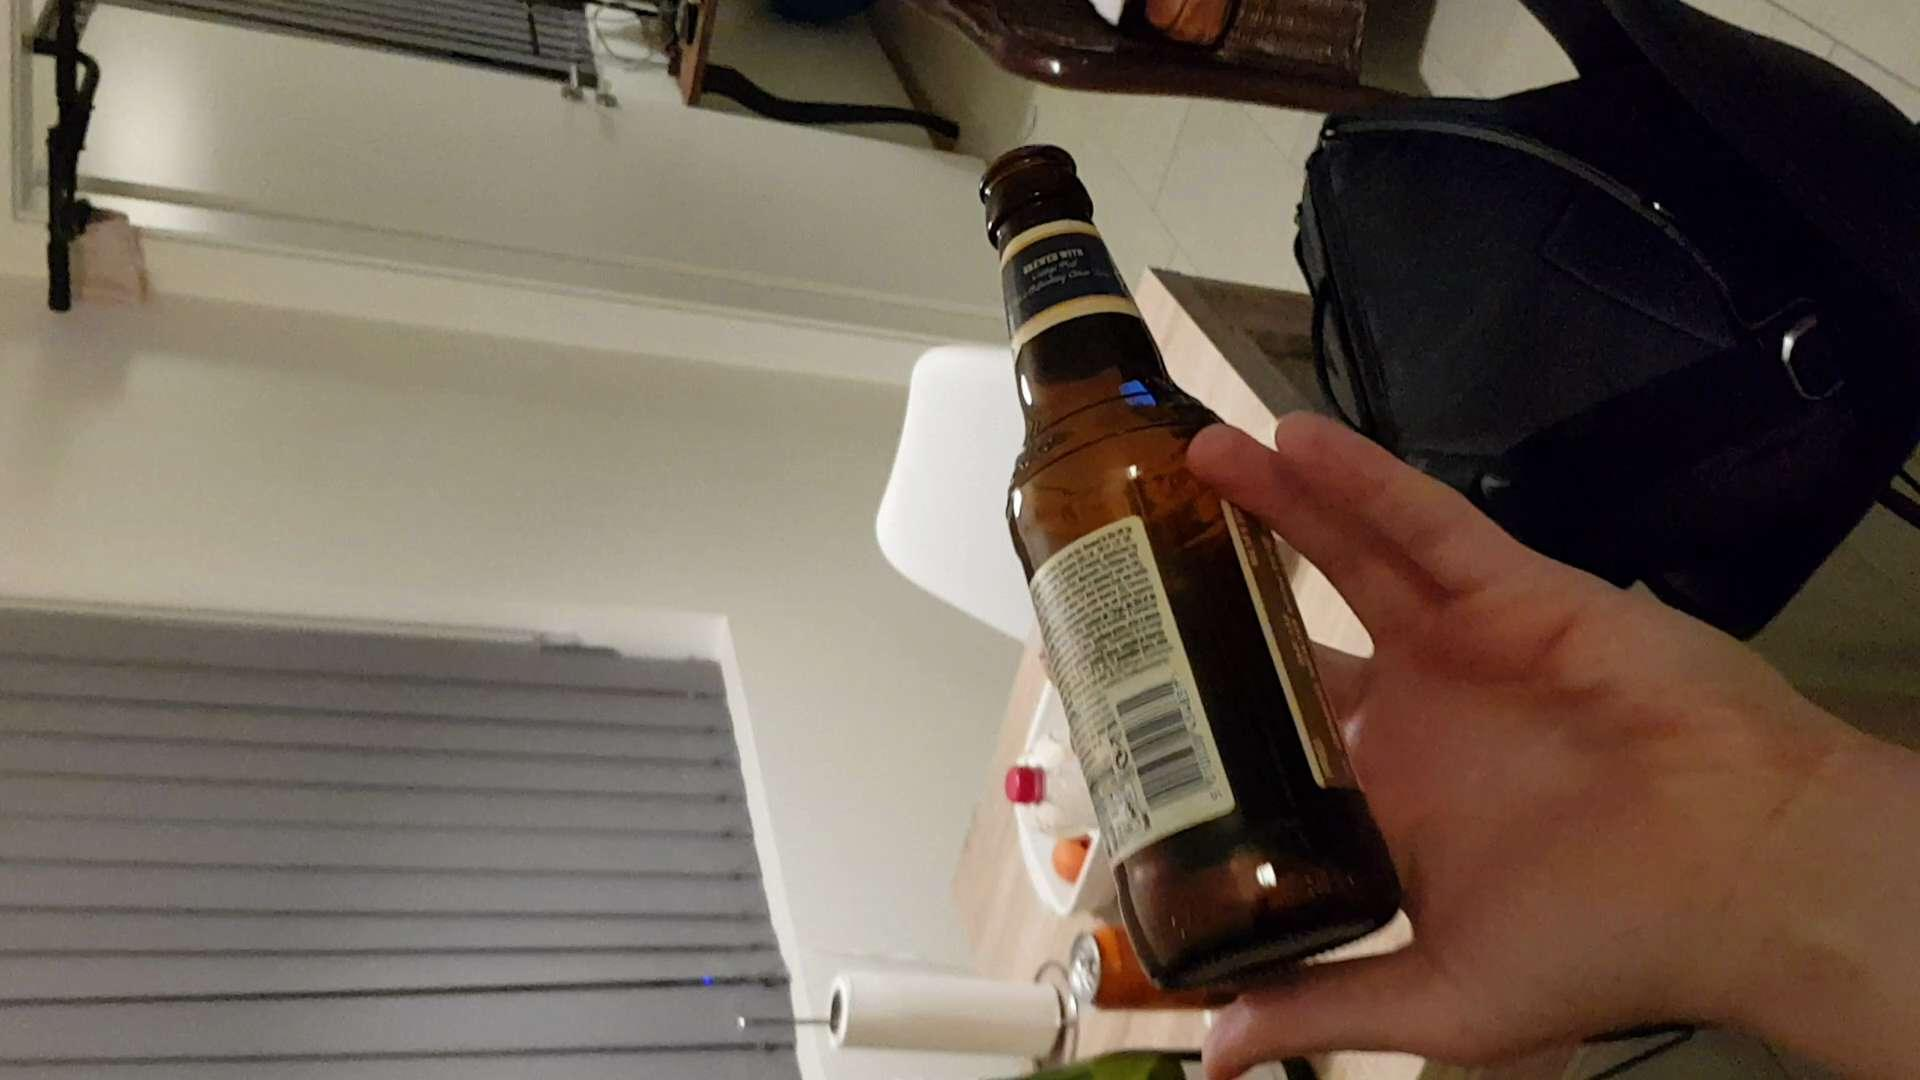Bottle: (971, 125, 1402, 988)
